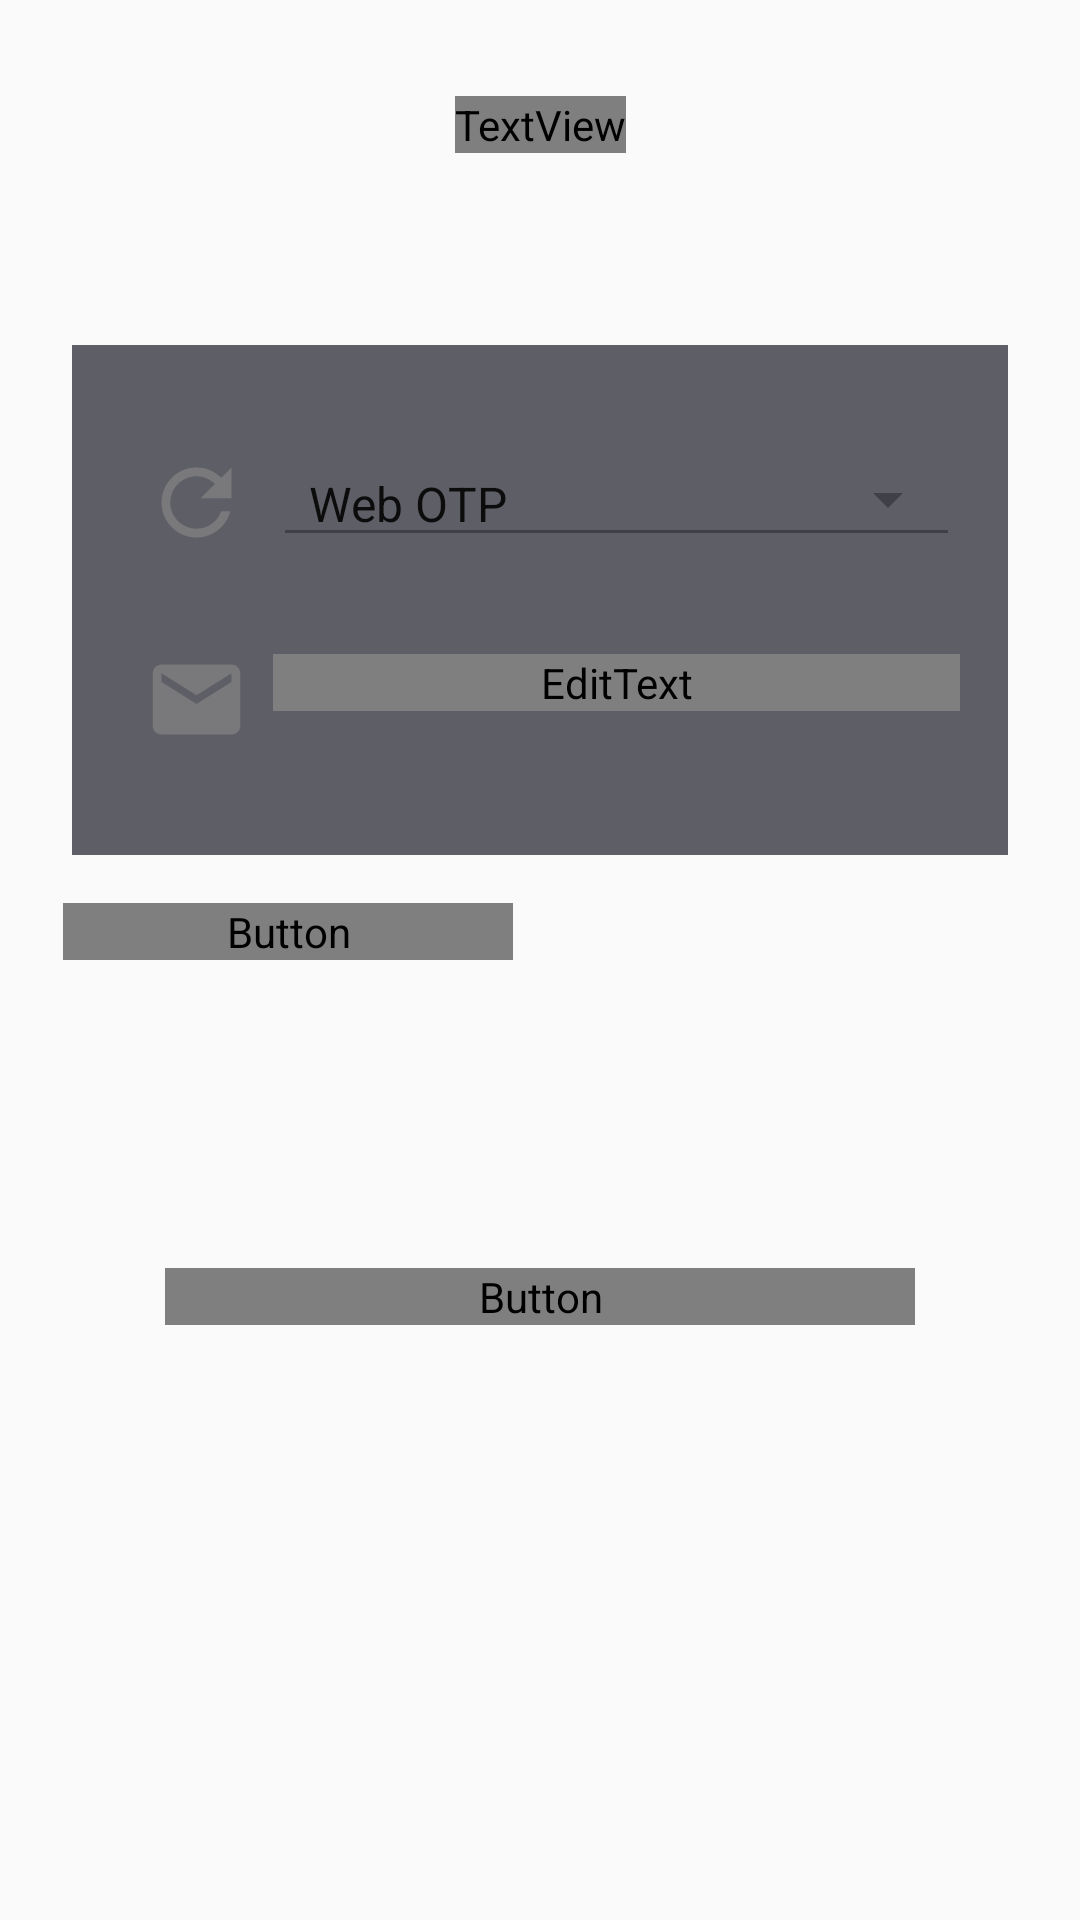

Named icons in this screenshot (1080*1920) and their bounding boxes, (x1, y1, x2, y2):
reset: (162, 468, 231, 537)
